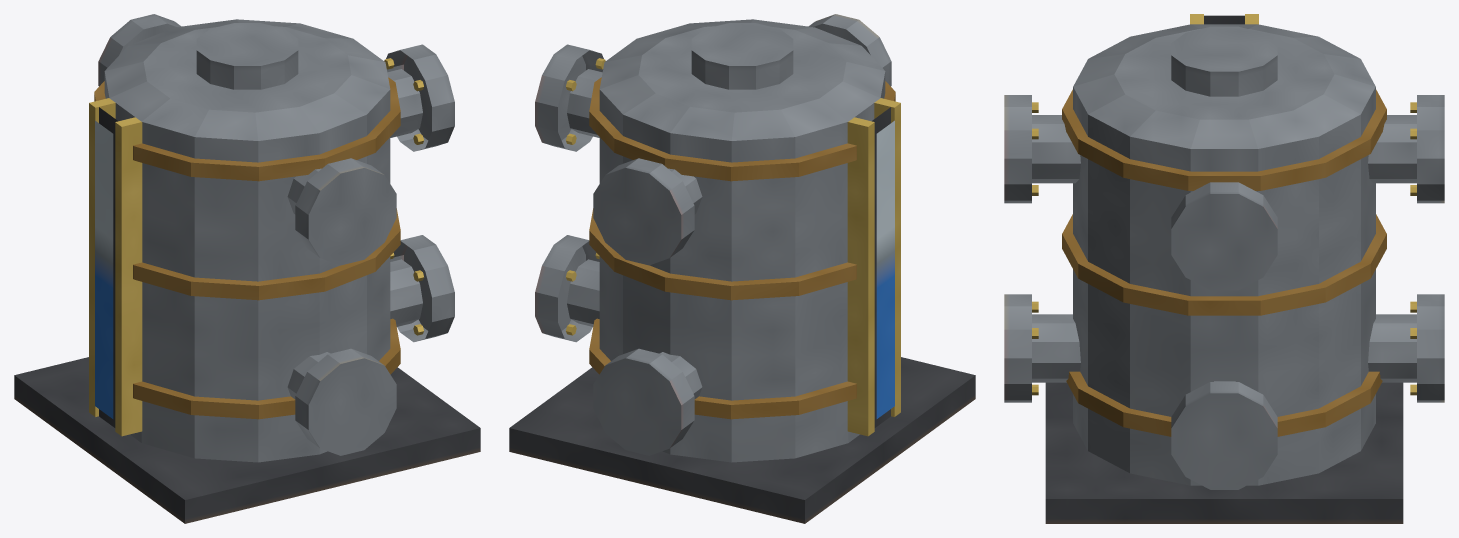
The model's file is tankalloy.obj.
3 views of the same model, side by side, from view 1: azimuth 30°, elevation 25°; view 2: azimuth 150°, elevation 25°; view 3: azimuth 270°, elevation 25° (orthographic). The views are drawn at different scales.
Parts seen in each view (by area): view 1: main, level; view 2: main, level; view 3: main.
Part boxes in pixels (x1,y1,x2,y2): main: (14,14,480,523); level: (95,120,113,418); main: (509,14,975,523); level: (876,120,894,418); main: (1004,14,1444,523).
Bounding box in the file's own units: 0.9062 × 1 × 1.
1 material, 1 textured.
